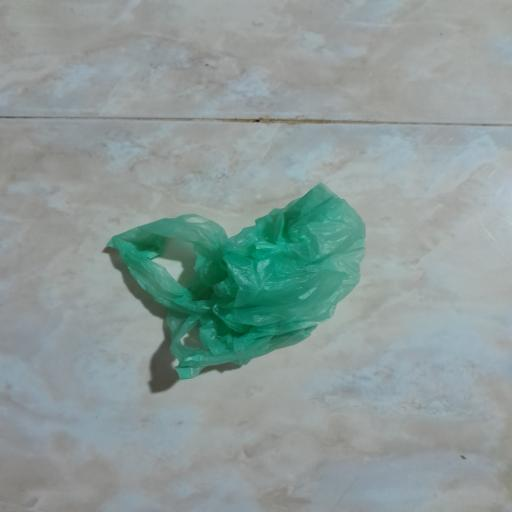waste: (97, 169, 388, 391)
